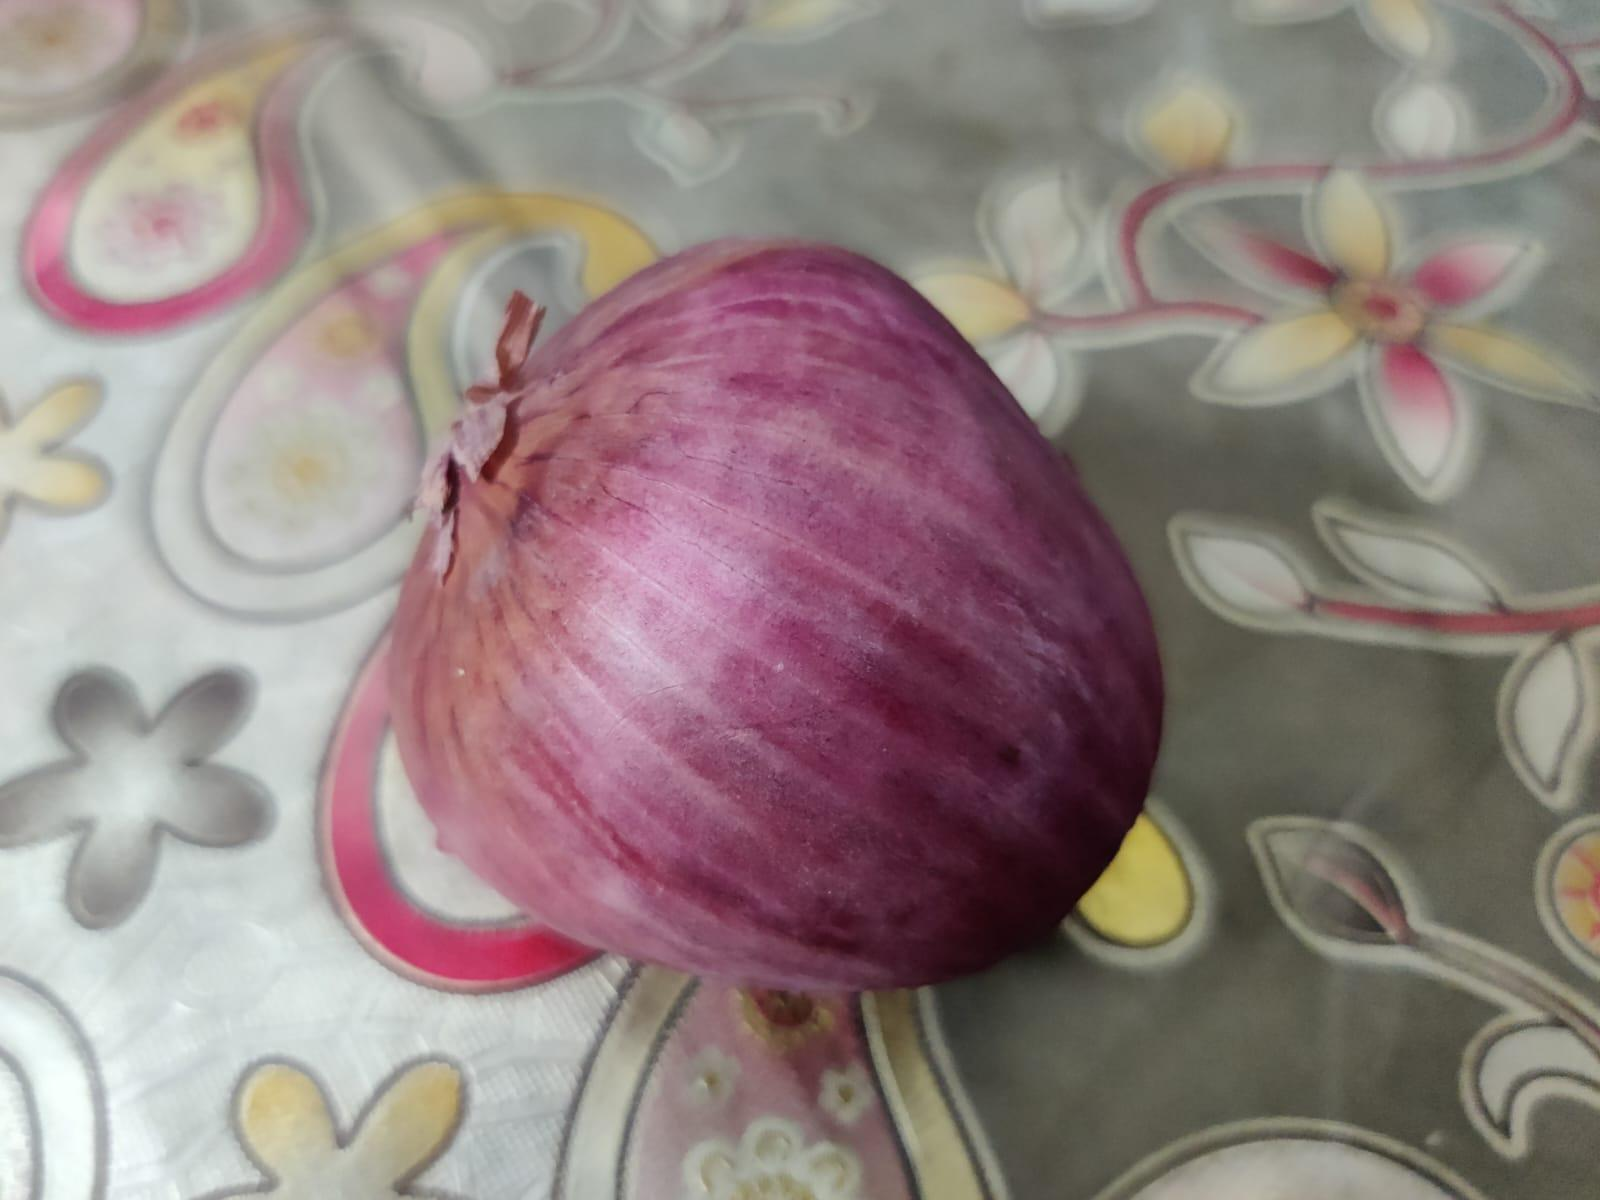non-mango: (393, 258, 1160, 989)
